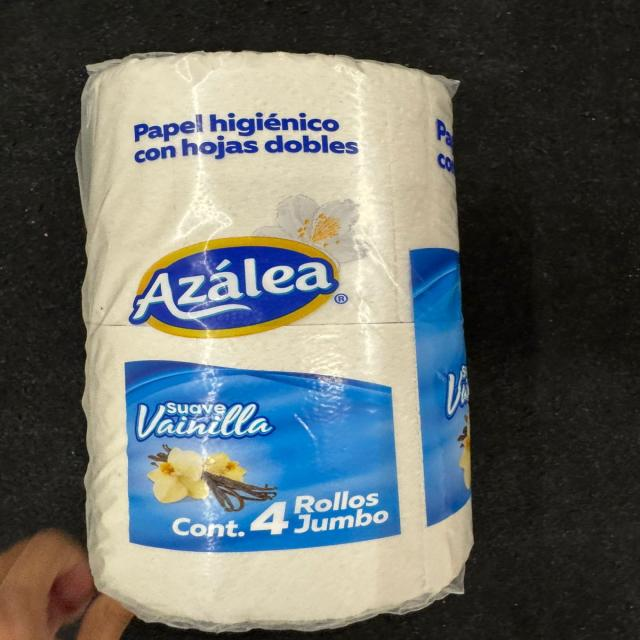PAPEL HIGIENICO AZALEA 4S CON AROMA: (84, 40, 498, 636)
